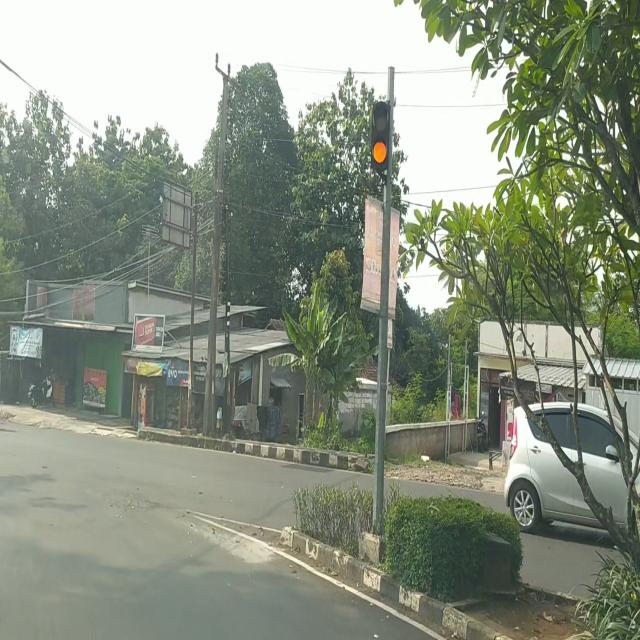Drain Hole: (99, 488, 164, 516)
